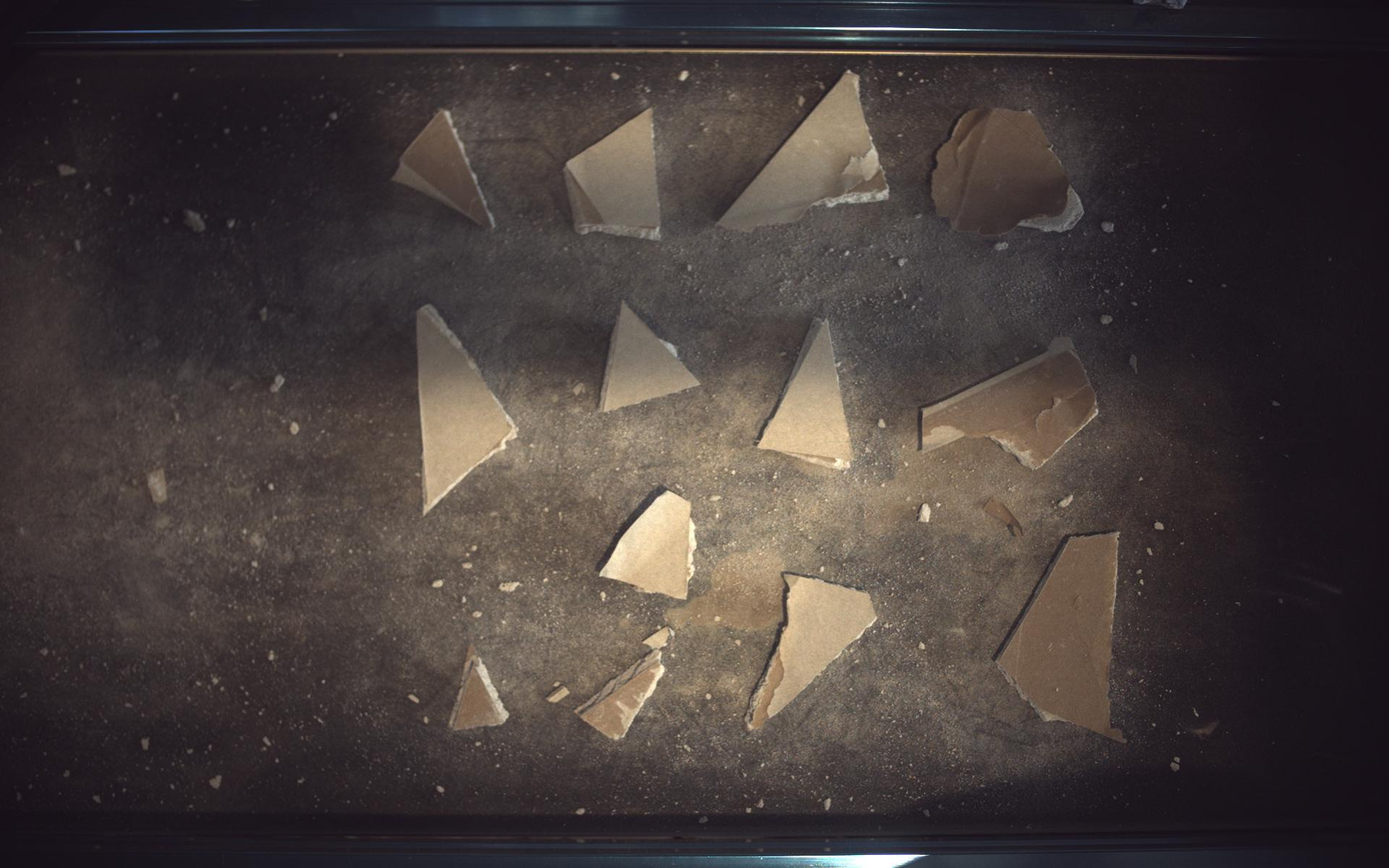gypsum_board: (998, 532, 1129, 744), (719, 69, 891, 230), (922, 336, 1100, 469), (416, 305, 517, 514), (747, 574, 878, 732), (933, 106, 1086, 235), (759, 317, 854, 469), (564, 106, 661, 239), (392, 109, 495, 228), (600, 301, 701, 412), (577, 628, 675, 741), (600, 492, 697, 600), (449, 645, 509, 731)
